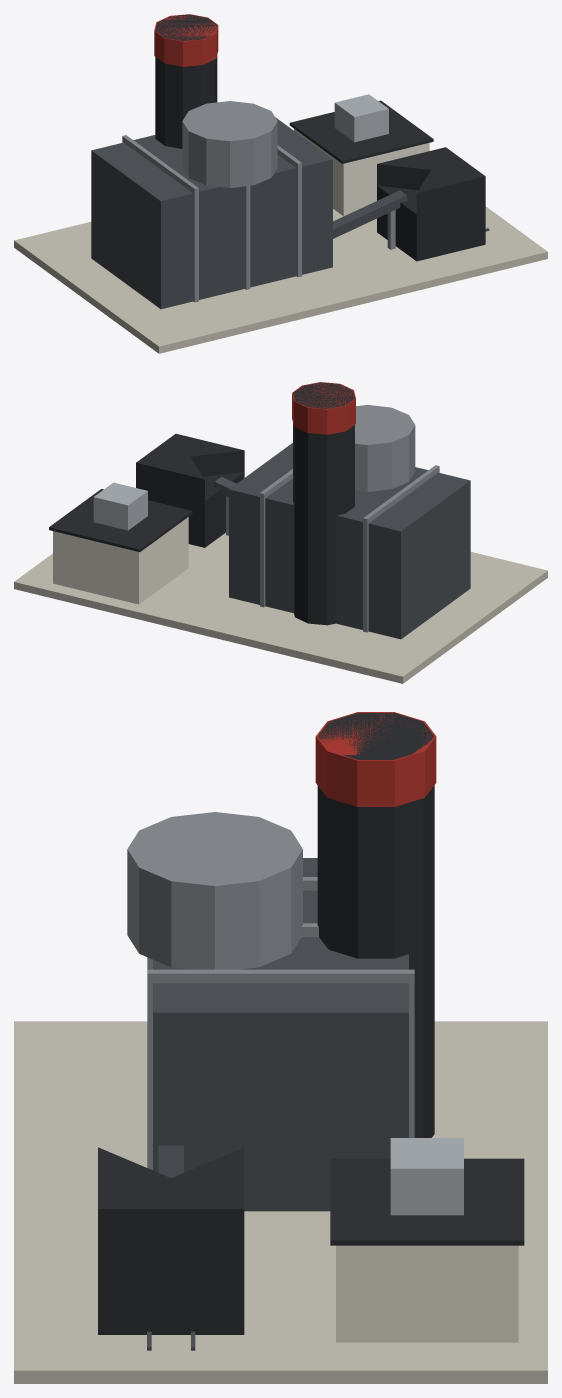
The model's file is building.coal-plant.glb.
3 renders of one model, top to bottom at view 1: azimuth 30°, elevation 25°; view 2: azimuth 150°, elevation 25°; view 3: azimuth 270°, elevation 25°, orthographic. The views are drawn at different scales.
Parts seen in each view (by area): view 1: building.coal-plant; view 2: building.coal-plant; view 3: building.coal-plant.
Part boxes in pixels (left/top/right/bottom): building.coal-plant: left=14, top=14, right=547, bottom=353; building.coal-plant: left=14, top=382, right=547, bottom=683; building.coal-plant: left=14, top=712, right=547, bottom=1383.
Size of the model in its own units: 22.6 by 12.4 by 14.6.
